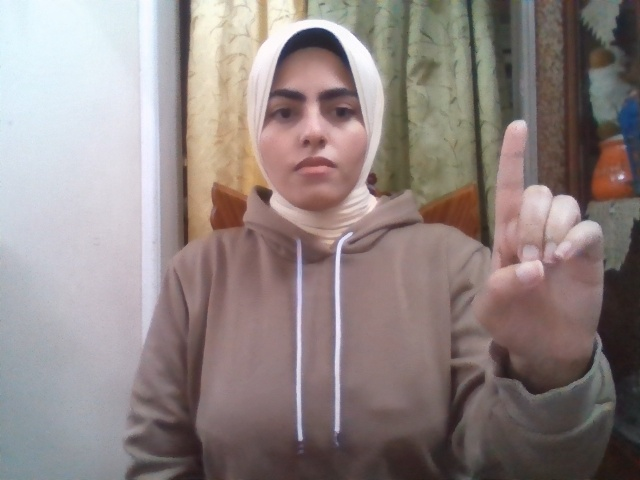D: (472, 120, 604, 369)
